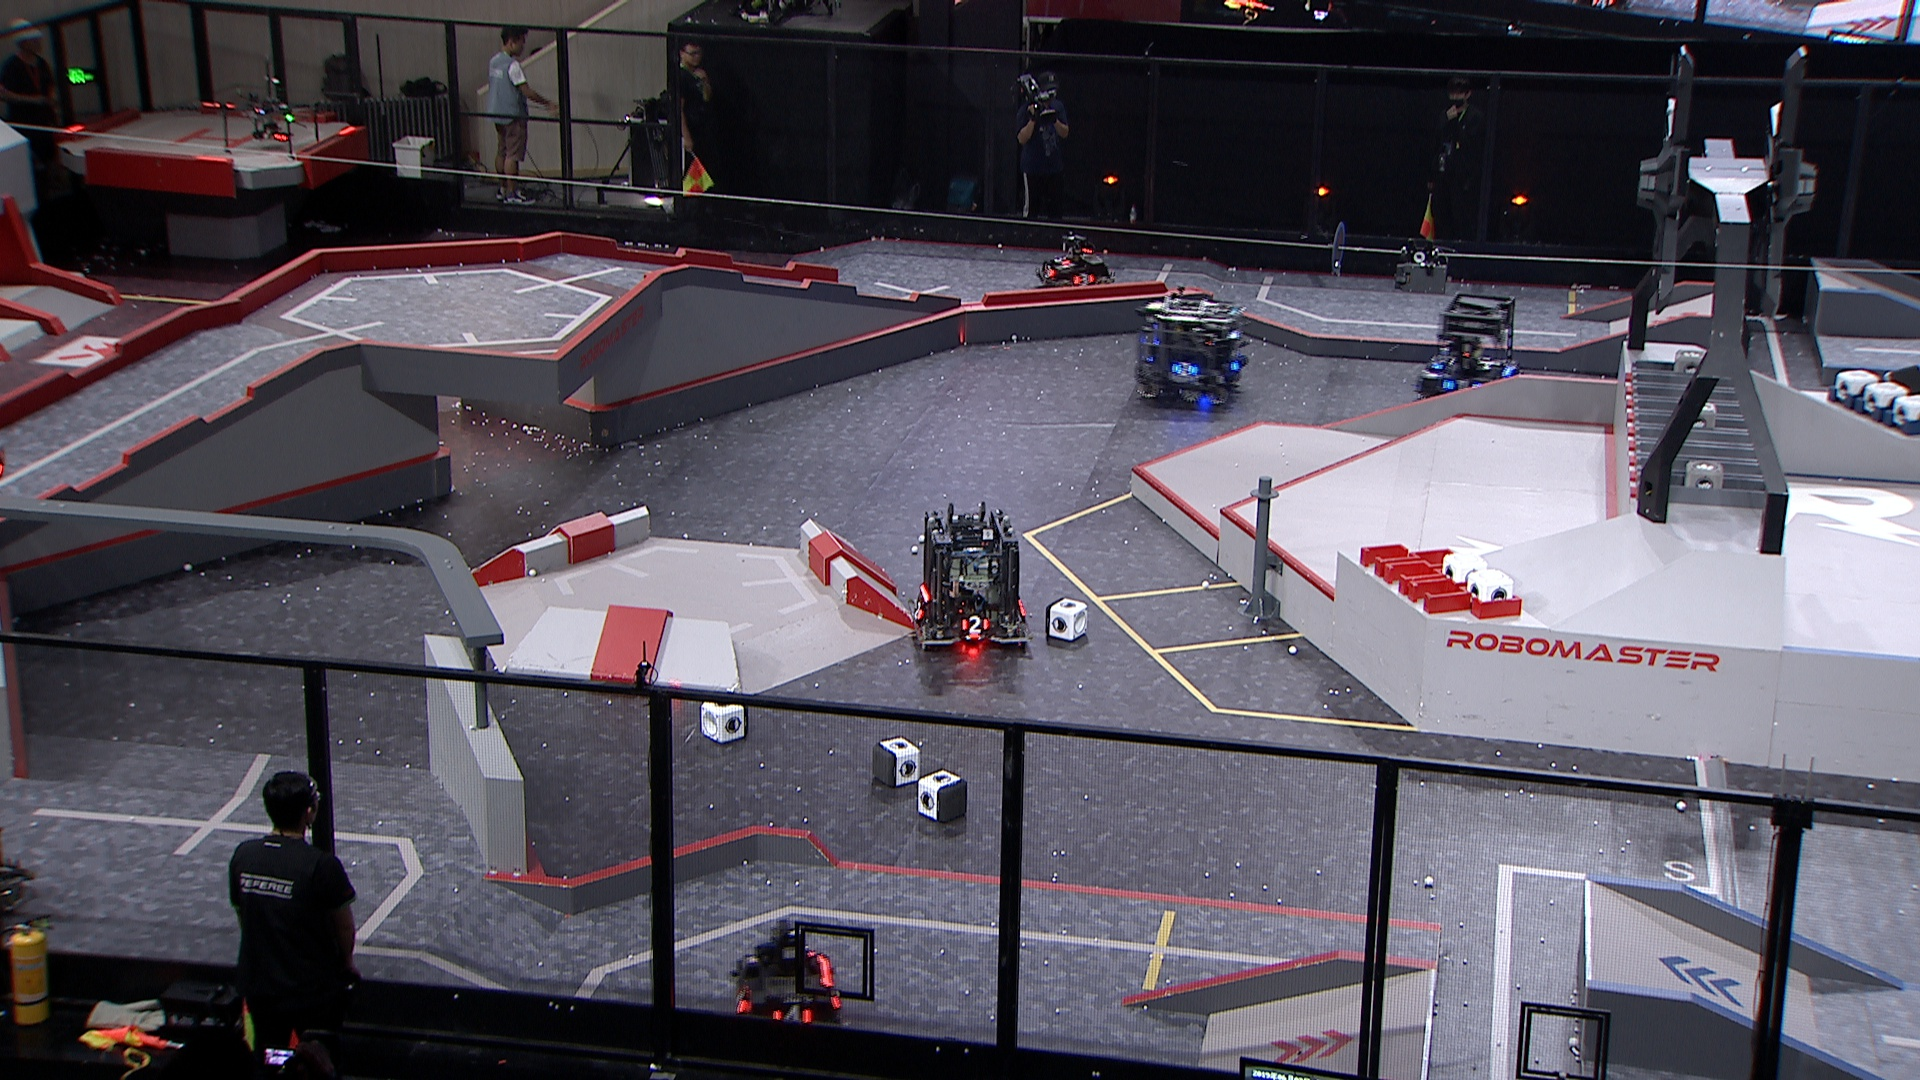armor: (771, 1004, 816, 1025), (961, 615, 993, 636), (1444, 376, 1480, 394), (733, 986, 754, 1011), (1171, 363, 1204, 378), (913, 600, 927, 622), (1073, 273, 1095, 287), (1040, 262, 1055, 280), (1051, 255, 1069, 266)
car: (910, 506, 1035, 651), (731, 920, 849, 1048), (1133, 290, 1251, 407), (1414, 291, 1523, 406), (1031, 232, 1116, 295)
